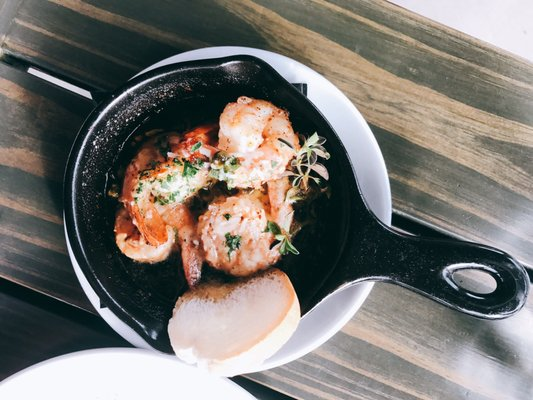salad: (197, 263, 530, 380)
sushi: (4, 53, 533, 397)
